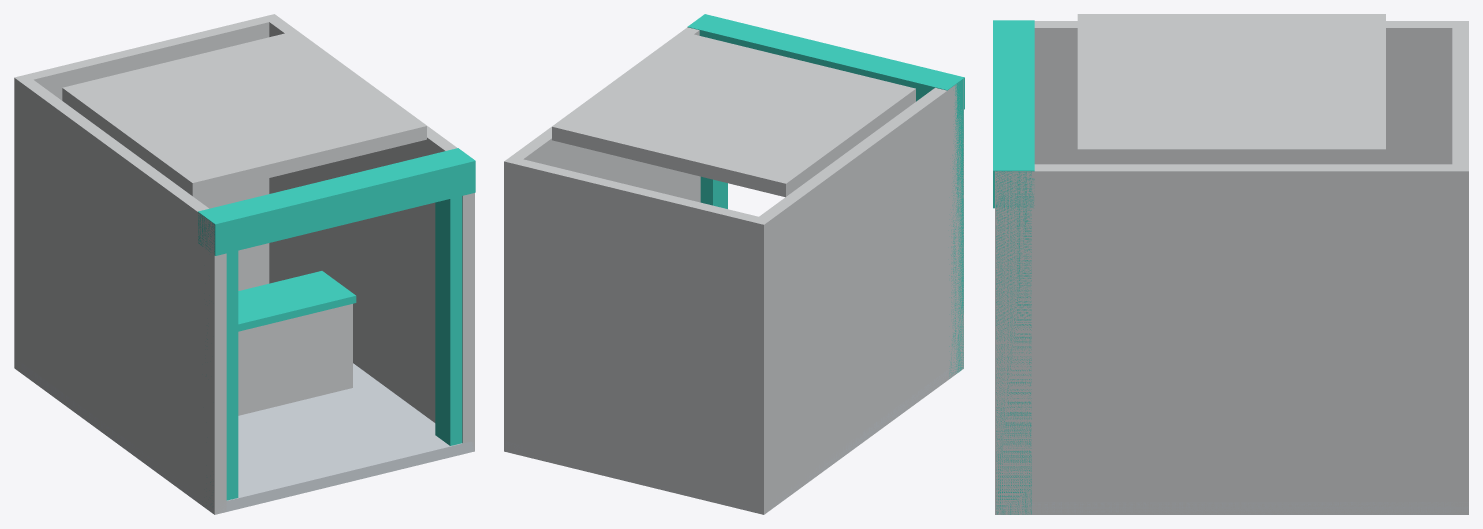
The picture shows the model from 3 angles, left to right: view 1: azimuth 30°, elevation 25°; view 2: azimuth 150°, elevation 25°; view 3: azimuth 270°, elevation 25°; orthographic projection. The views are drawn at different scales.
Visible parts, largest first — view 1: Exhibition Booth Concept; view 2: Exhibition Booth Concept; view 3: Exhibition Booth Concept.
Boxes of the visible parts, x1,y1,x2,y2 form: Exhibition Booth Concept: [14, 14, 475, 514]; Exhibition Booth Concept: [504, 14, 964, 514]; Exhibition Booth Concept: [993, 14, 1468, 514].
Size of the model in its own units: 3 by 3.34 by 4.02.
